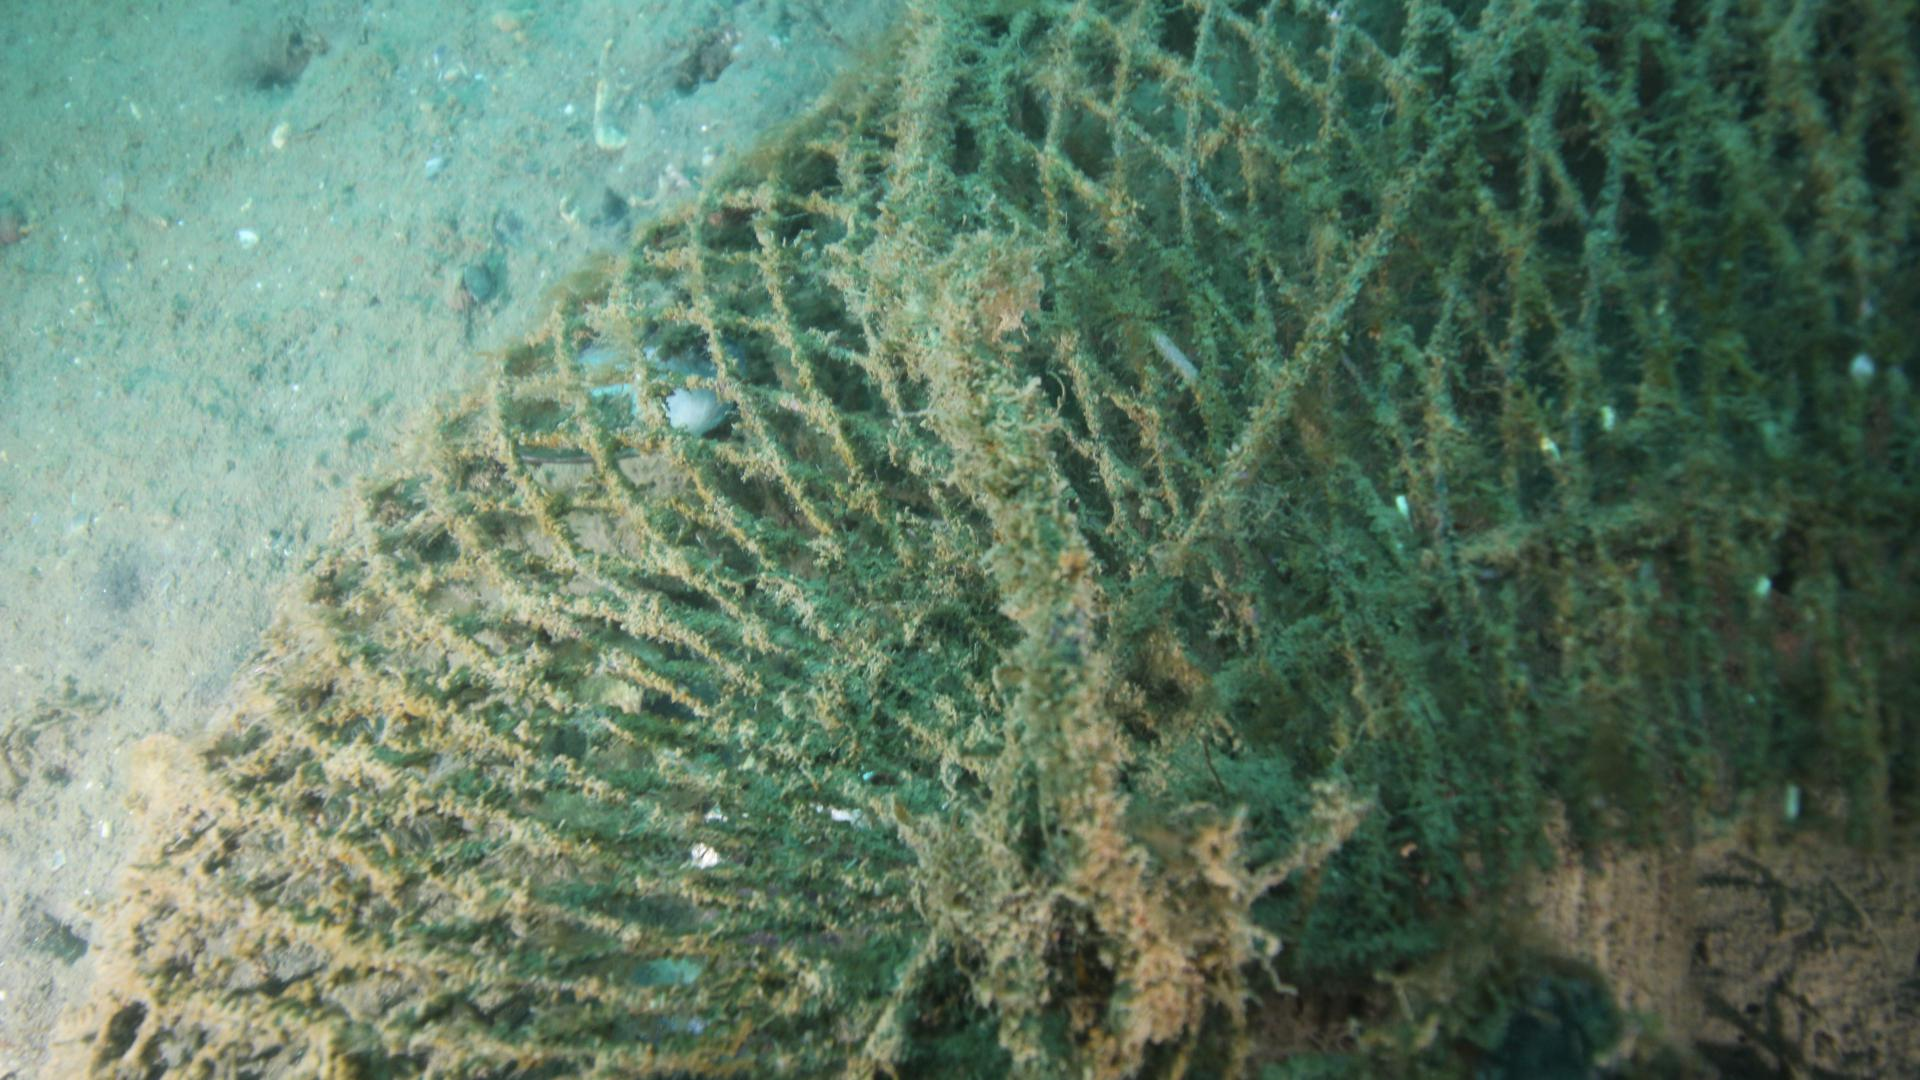fish net: (30, 0, 1920, 1080)
